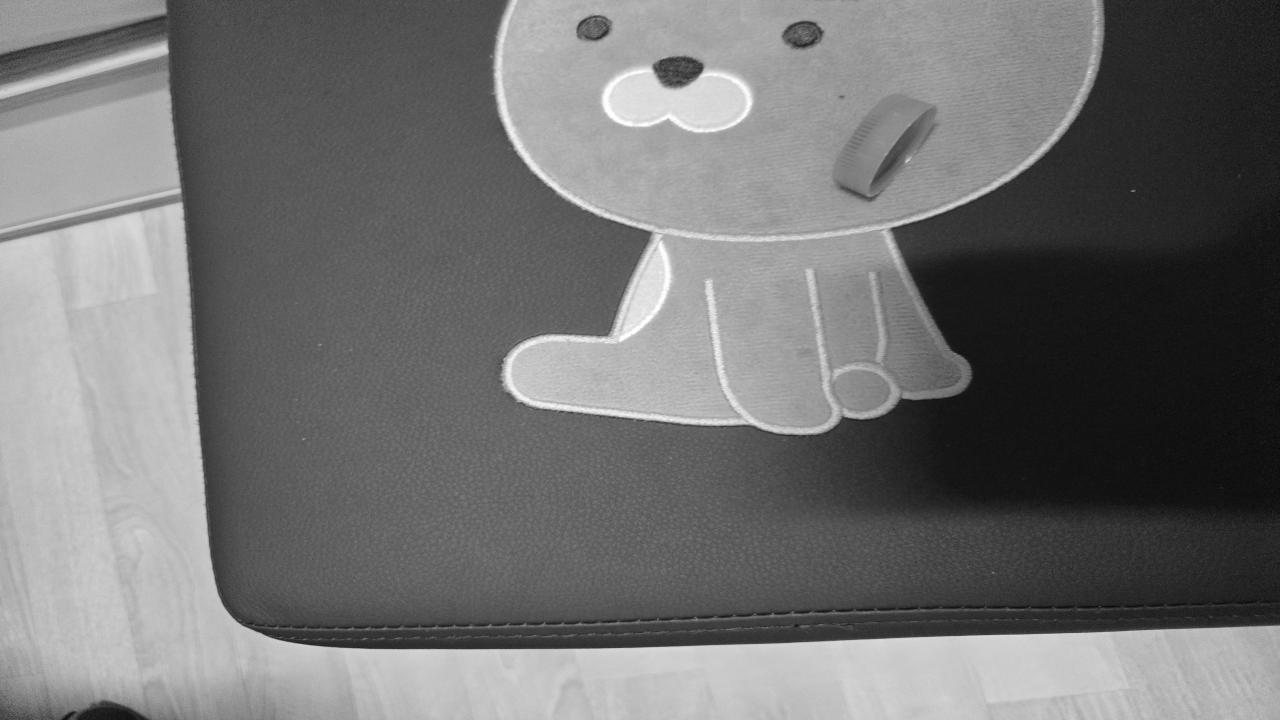bottle_cap: (842, 97, 932, 192)
